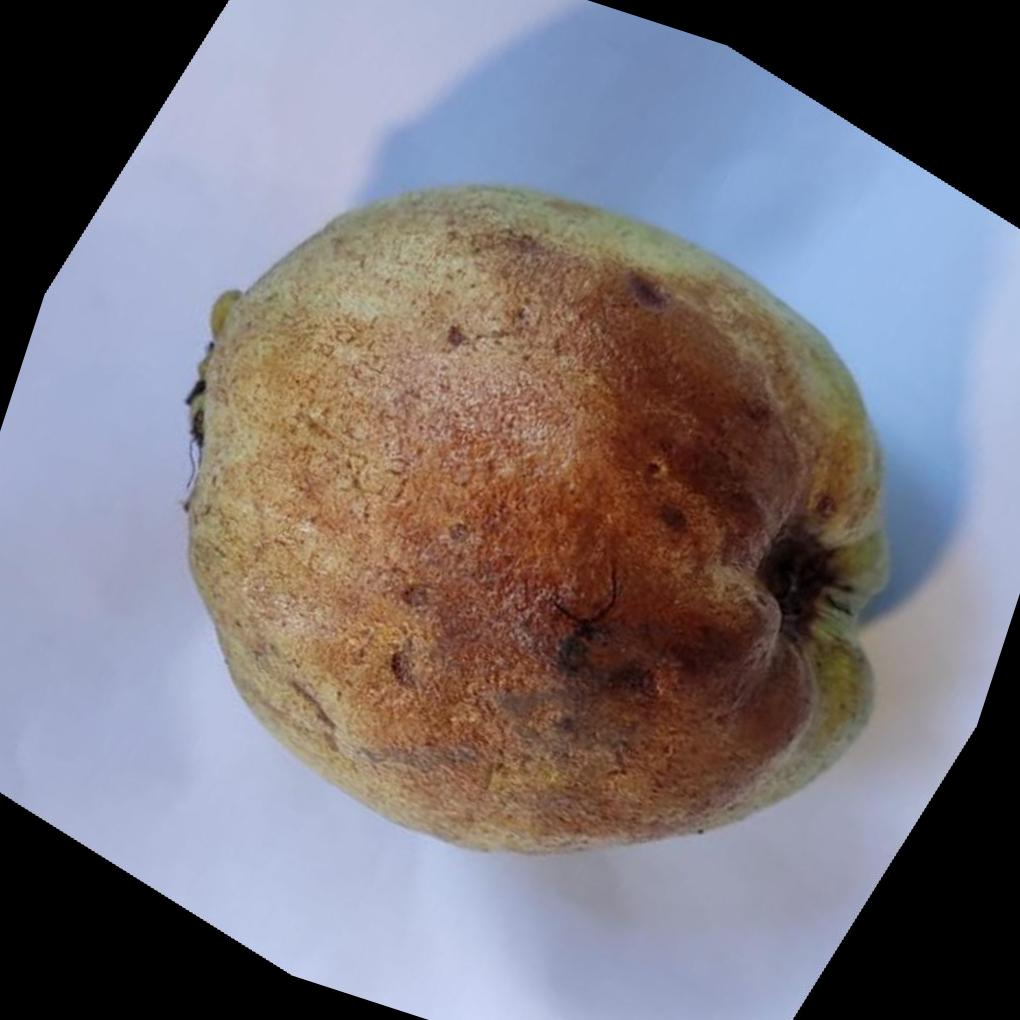FreshOrange: (186, 182, 897, 858)
